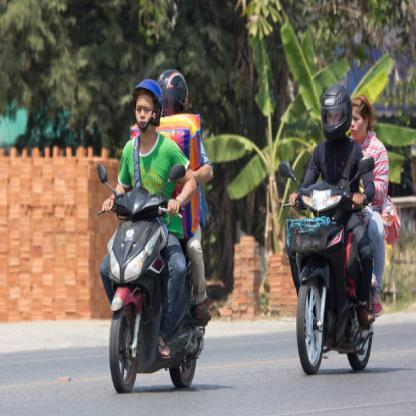Motorcycle: (89, 156, 207, 404), (272, 145, 374, 377)
